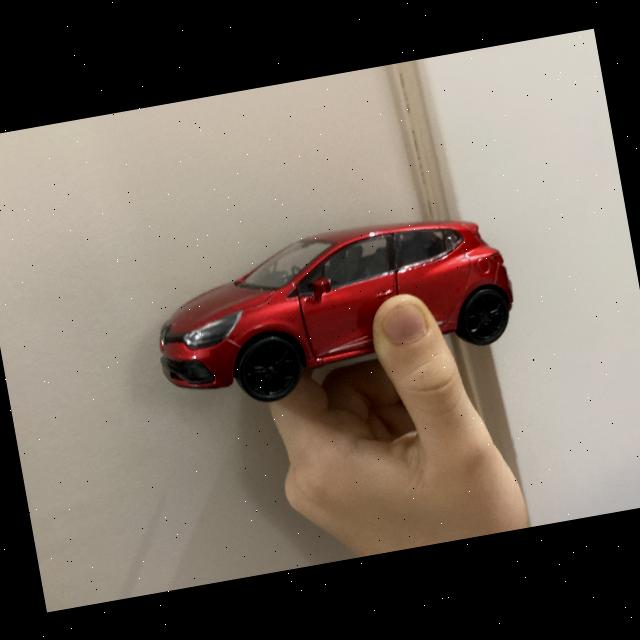Dogru_Jant: (244, 343, 294, 394), (465, 292, 506, 338)
